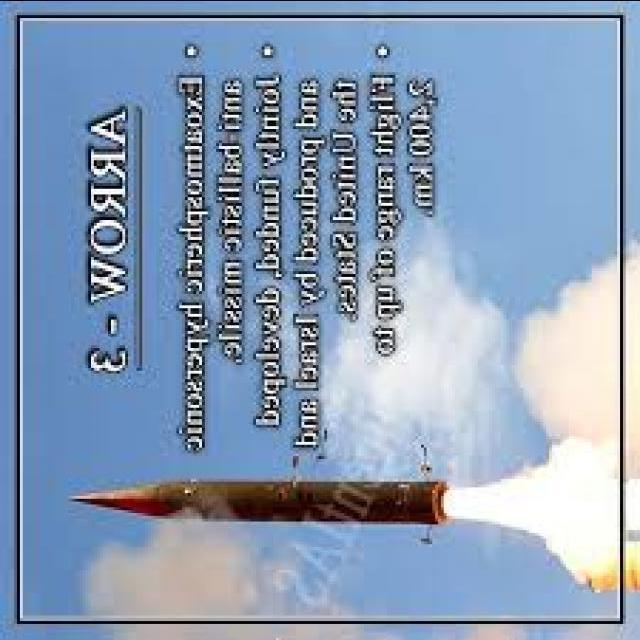missile: (74, 469, 460, 540)
